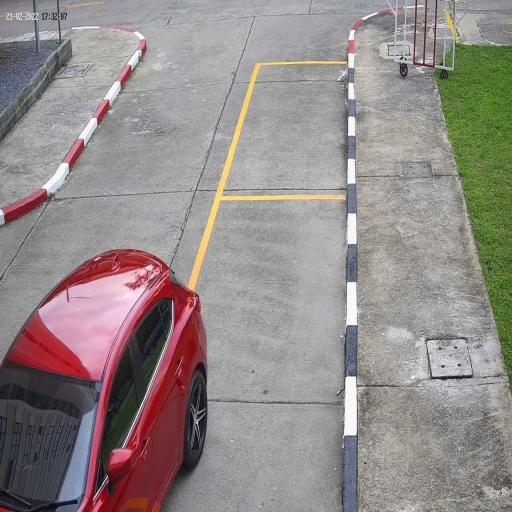car: (0, 248, 209, 512)
